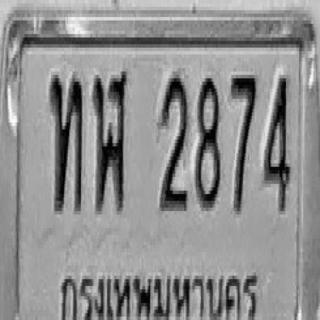A23: (50, 73, 82, 213)
A42: (93, 68, 127, 211)
N02: (159, 72, 188, 211)
N04: (262, 75, 290, 211)
N07: (230, 73, 256, 213)
N08: (195, 75, 221, 208)
P04: (54, 255, 262, 320)
